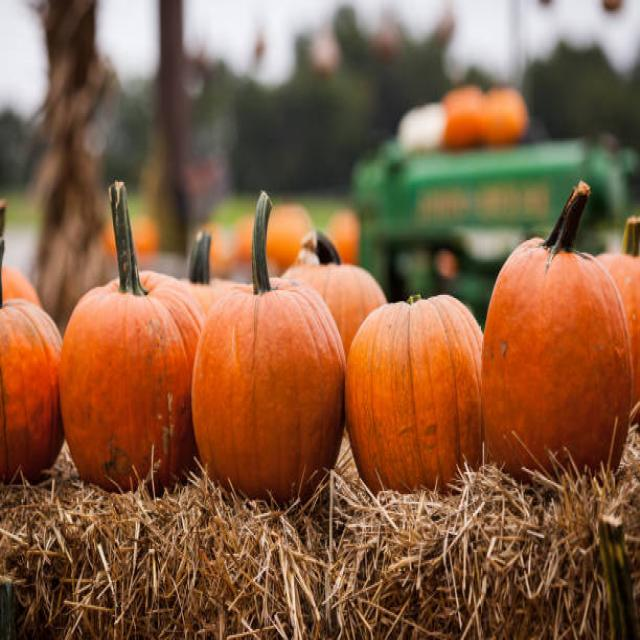Pumpkin: (480, 236, 634, 478), (192, 283, 346, 500), (59, 260, 193, 500), (344, 290, 482, 498), (0, 289, 59, 485)
